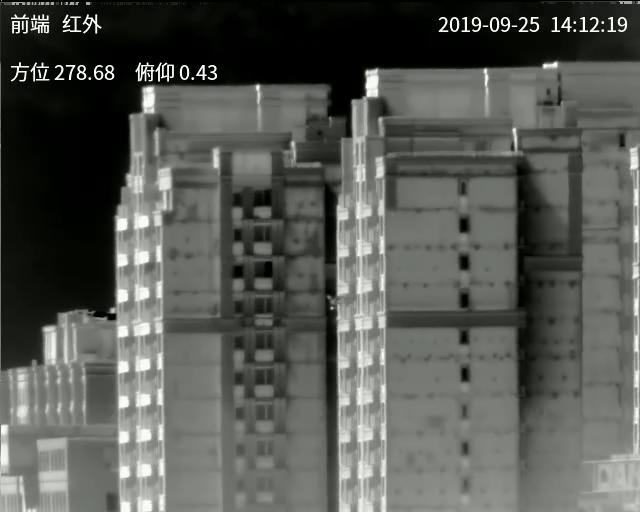uav: (326, 284, 350, 313)
